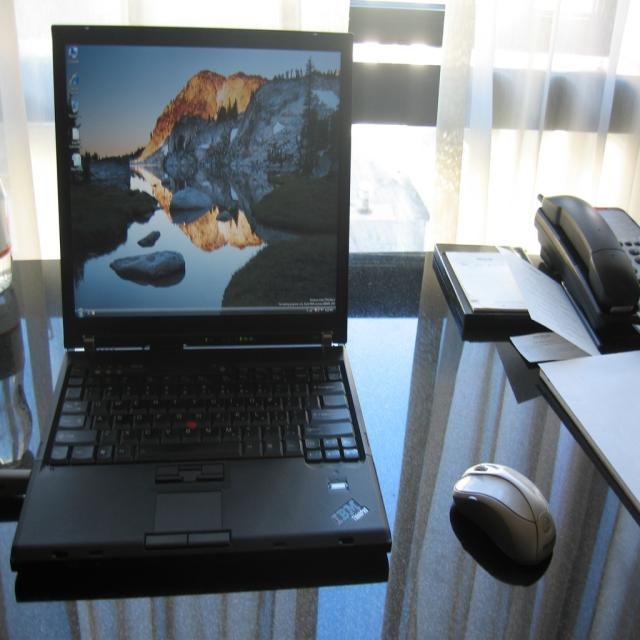Laptop: (12, 24, 391, 562)
